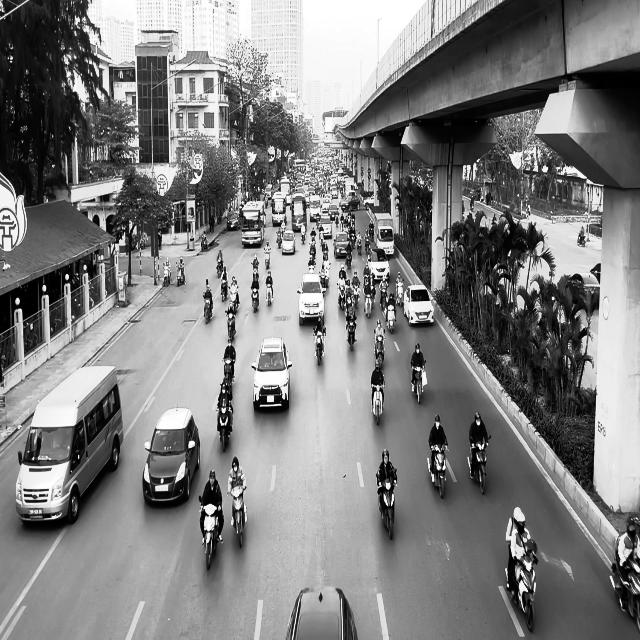bus: (15, 364, 124, 524), (240, 203, 264, 247), (373, 211, 394, 255)
car: (142, 406, 200, 505), (286, 586, 358, 640), (251, 336, 292, 411), (296, 273, 324, 325), (403, 284, 434, 326), (565, 272, 600, 306), (367, 248, 390, 282), (334, 232, 352, 258), (281, 230, 295, 254), (226, 211, 240, 230)
motorbike: (508, 547, 538, 632), (609, 555, 640, 632), (198, 497, 222, 570), (376, 470, 397, 539), (468, 435, 490, 494), (227, 487, 247, 548), (427, 442, 448, 498), (216, 404, 233, 452), (411, 359, 426, 404), (370, 381, 384, 425), (373, 330, 385, 369), (313, 328, 325, 366), (225, 309, 236, 342), (346, 317, 356, 351), (202, 294, 212, 324), (265, 279, 273, 306), (176, 263, 185, 286), (251, 287, 259, 312), (163, 264, 171, 287), (251, 262, 259, 280)
